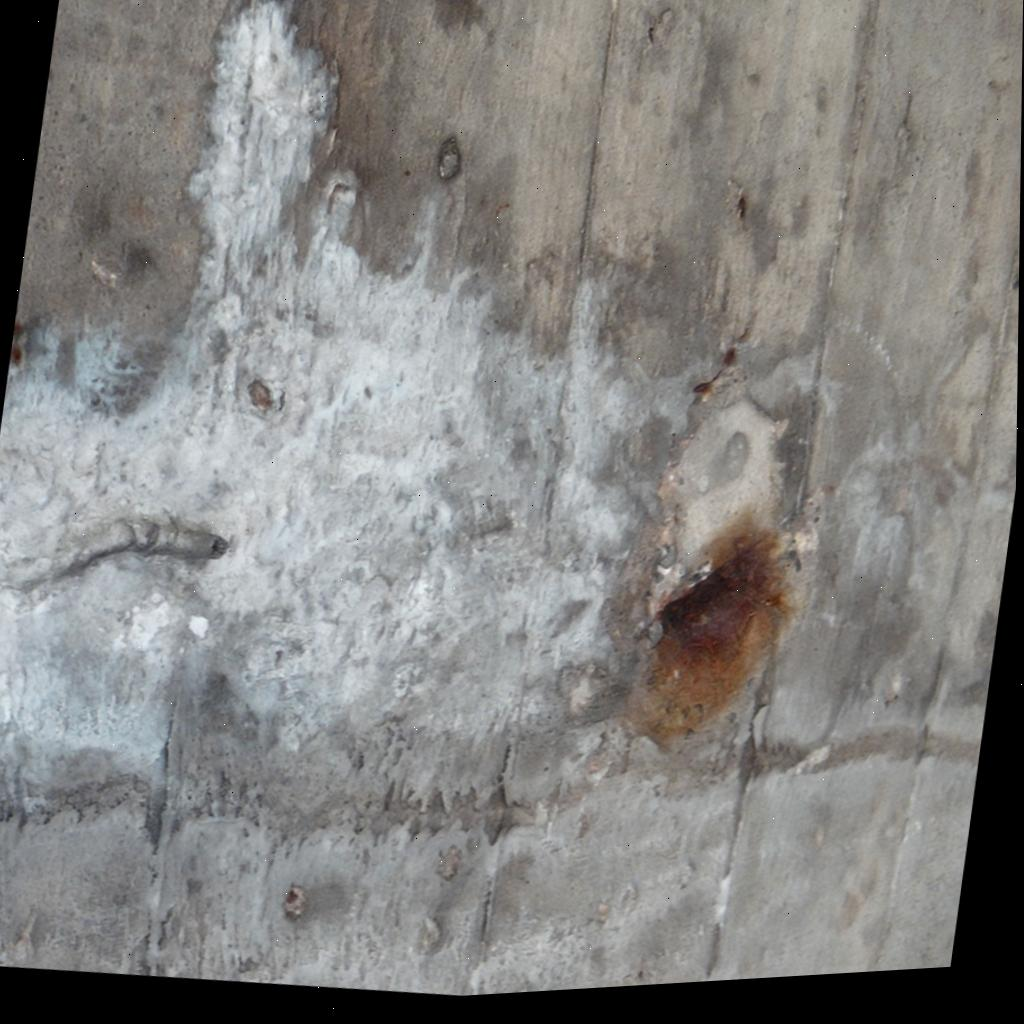exposed_rebar: (630, 530, 792, 744), (9, 518, 228, 591)
spalling: (0, 0, 805, 815)
